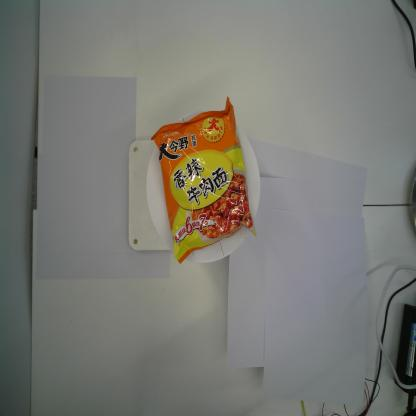Instant Noodles: (151, 95, 258, 267)
